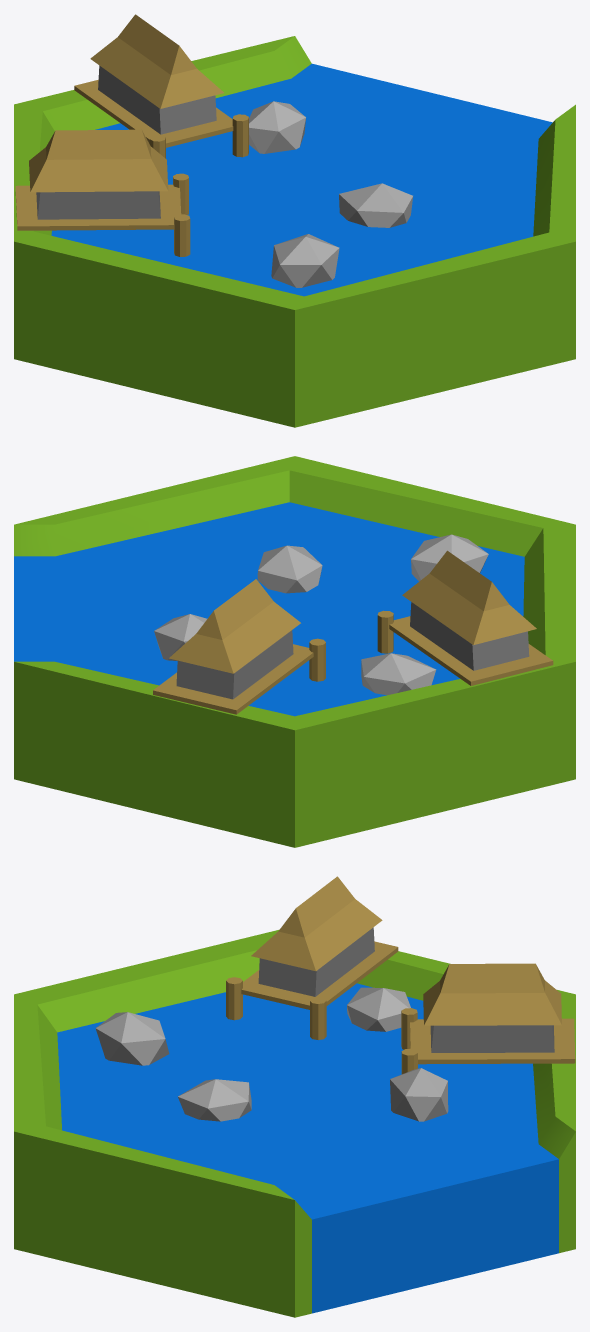
The model's file is Casas_Lago_2.fbx.
3 views of the same model, one above another, from view 1: azimuth 30°, elevation 25°; view 2: azimuth 150°, elevation 25°; view 3: azimuth 270°, elevation 25° (orthographic).
Visible parts, largest first — view 1: Casas_Lago_2; view 2: Casas_Lago_2; view 3: Casas_Lago_2.
Part boxes in pixels (x1,y1,x2,y2): Casas_Lago_2: (14, 14, 575, 427); Casas_Lago_2: (14, 456, 575, 847); Casas_Lago_2: (14, 876, 575, 1317).
Size of the model in its own units: 200 by 67.29 by 173.
